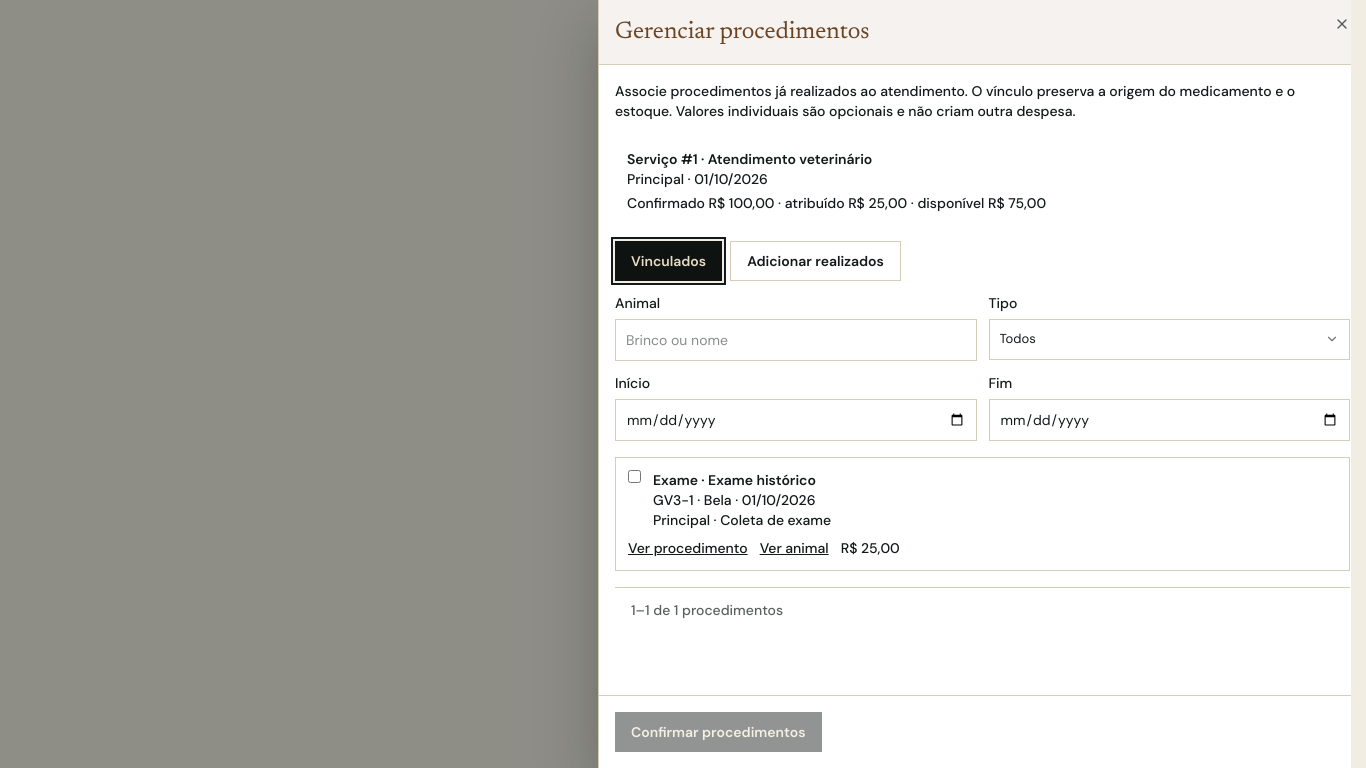
Test: gerenciar procedimentos de Serviço › resposta antiga não substitui a consulta do filtro atual
Expected: the text "Exame · Exame histórico" is shown, [653,471,816,489]
Type "antigo" into the field labelled "Animal".
click(796, 340); type("antigo")  # box [615,319,976,361]
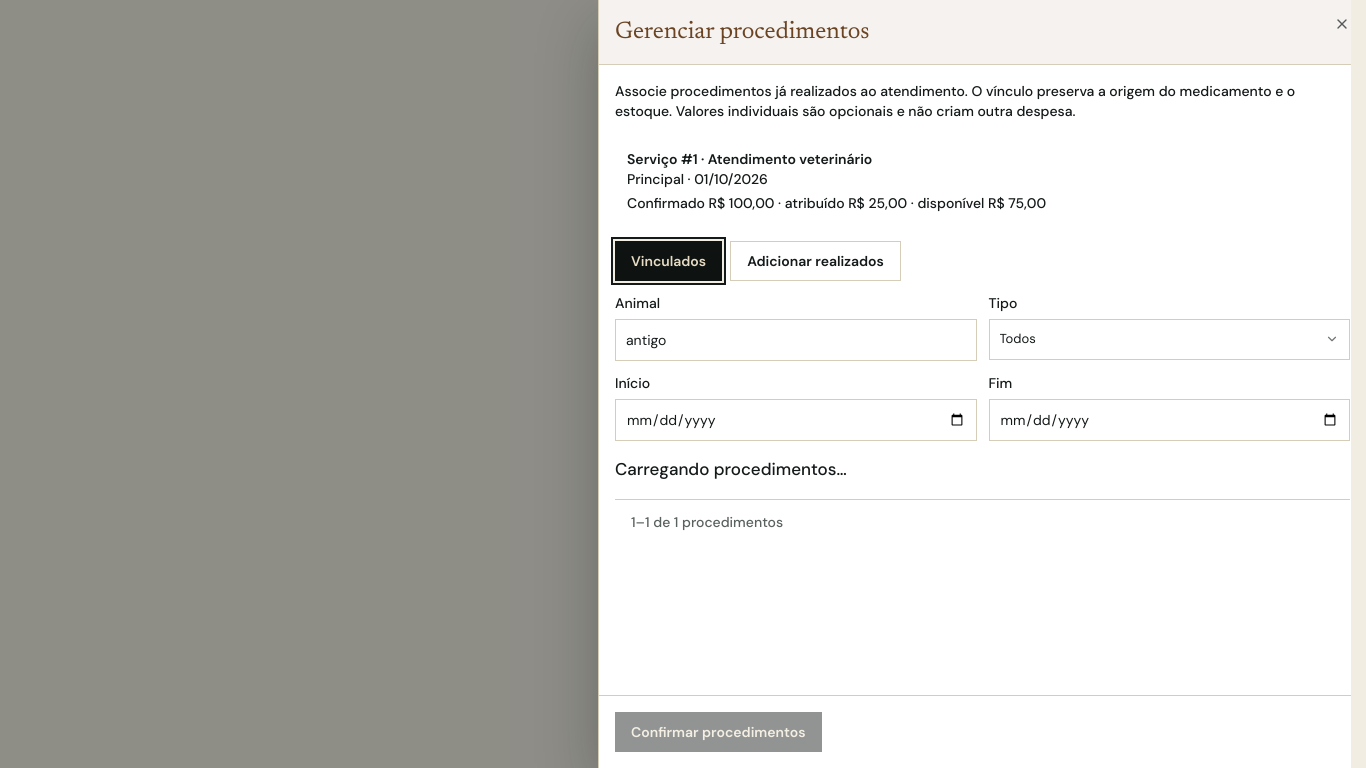
Replace the text in the field labelled "Animal" with "novo" at (796, 340), box [615,319,976,361]
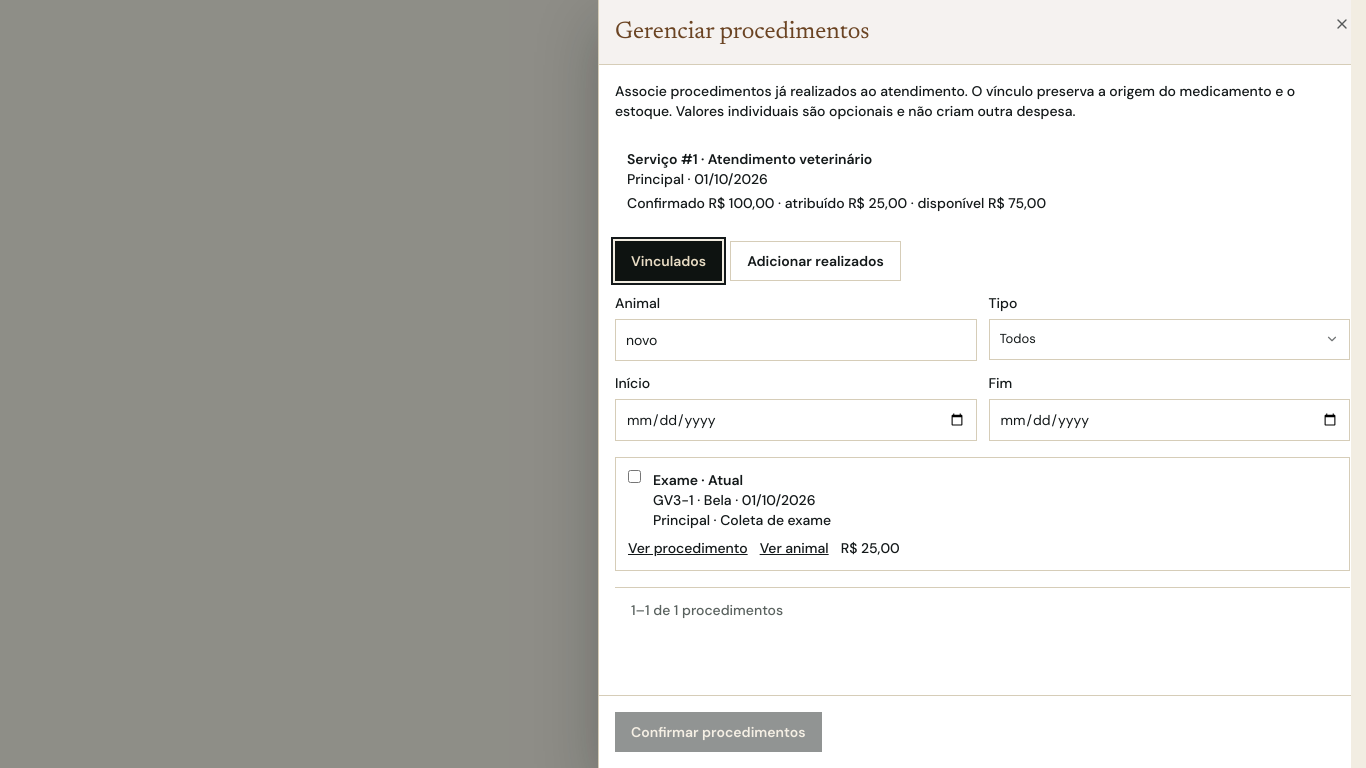
Expected: the text "Exame · Atual" is shown, [653,471,743,489]
